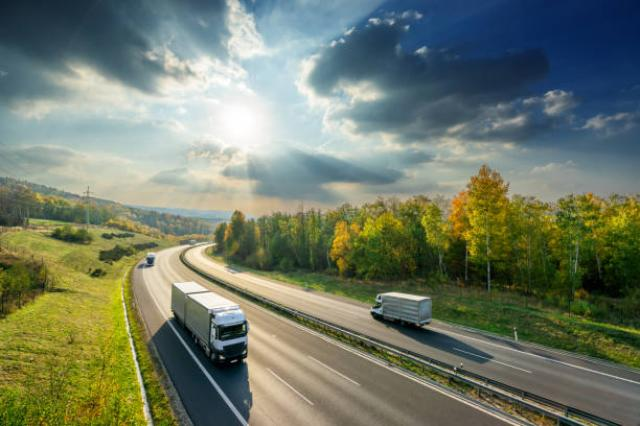truck: (168, 281, 250, 367), (369, 287, 432, 333)
